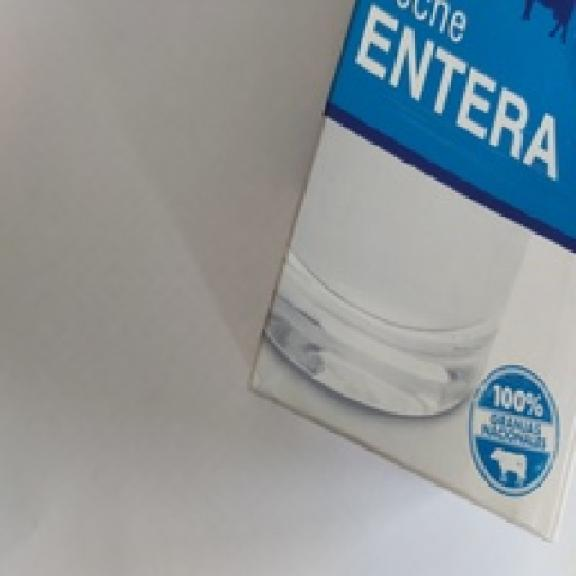Kertas: (252, 0, 573, 537)
